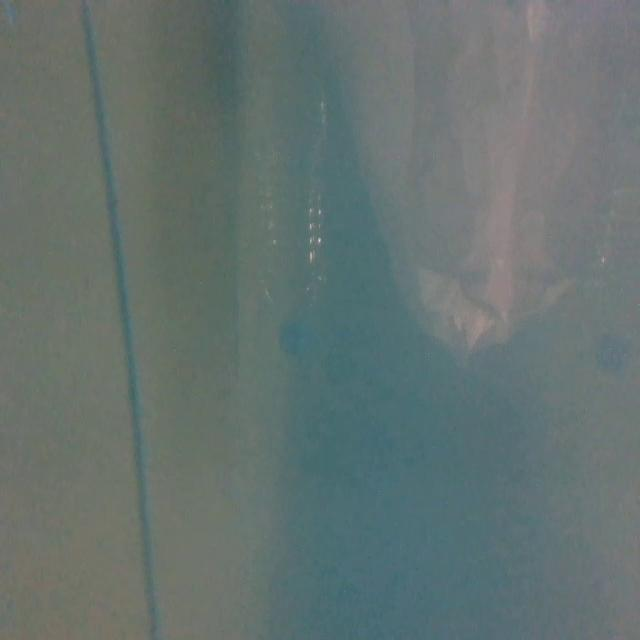plastic bags: (327, 0, 640, 380)
plastic bottle: (258, 65, 350, 375)
